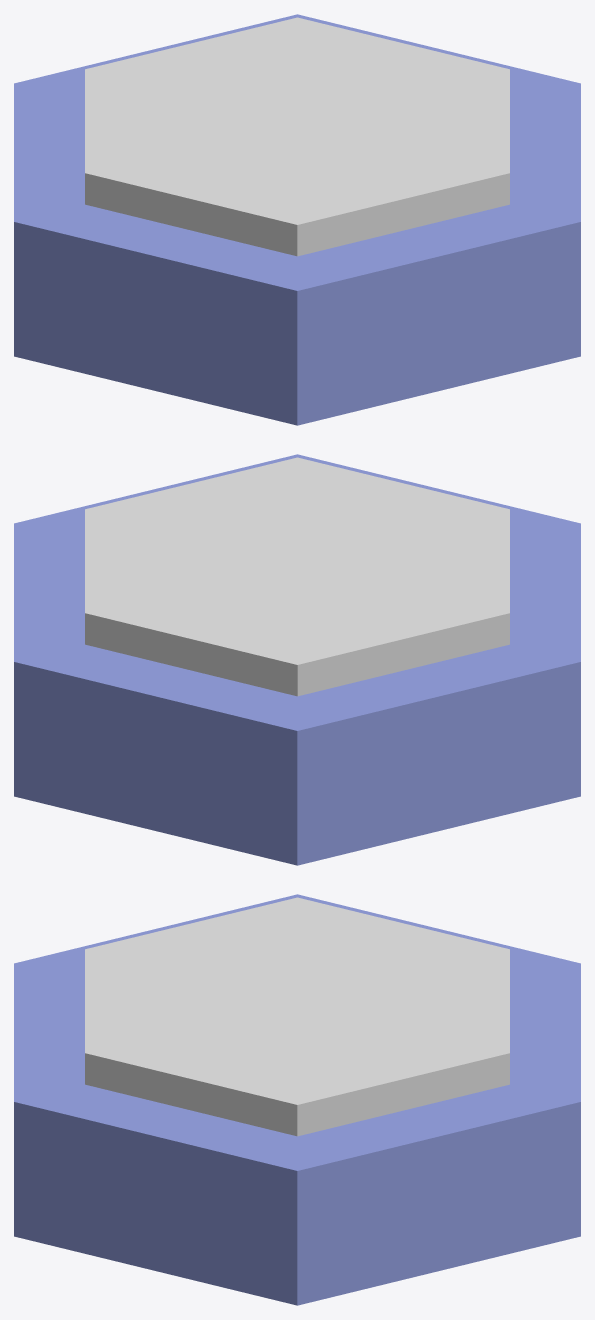
Rendered from basiccell.glb.
3 views of the same model, one above another, from view 1: azimuth 30°, elevation 25°; view 2: azimuth 150°, elevation 25°; view 3: azimuth 270°, elevation 25° (orthographic).
Parts seen in each view (by area): view 1: Cylinder.003, Cylinder; view 2: Cylinder.003, Cylinder; view 3: Cylinder.003, Cylinder.
Part boxes in pixels (bbox=[...]): Cylinder.003: bbox=[14, 14, 580, 425]; Cylinder: bbox=[85, 17, 509, 256]; Cylinder.003: bbox=[14, 454, 580, 865]; Cylinder: bbox=[85, 457, 509, 696]; Cylinder.003: bbox=[14, 894, 580, 1305]; Cylinder: bbox=[85, 897, 509, 1136].
Bounding box in the file's own units: 2 × 0.5598 × 1.73.
